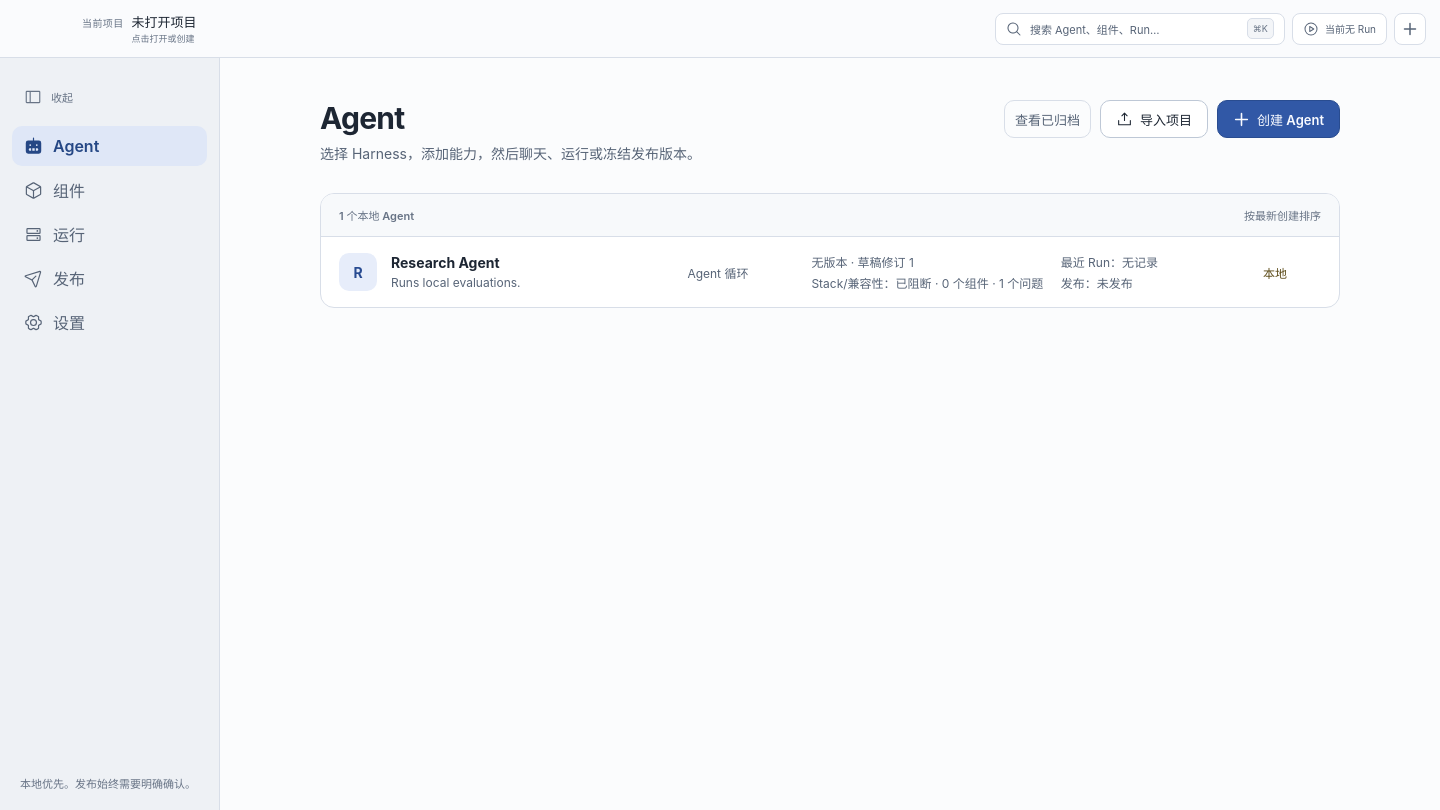
Test: App › opens global search with Command-K and navigates to a local Agent from the keyboard
Type keys "{Meta>}k{/Meta}"
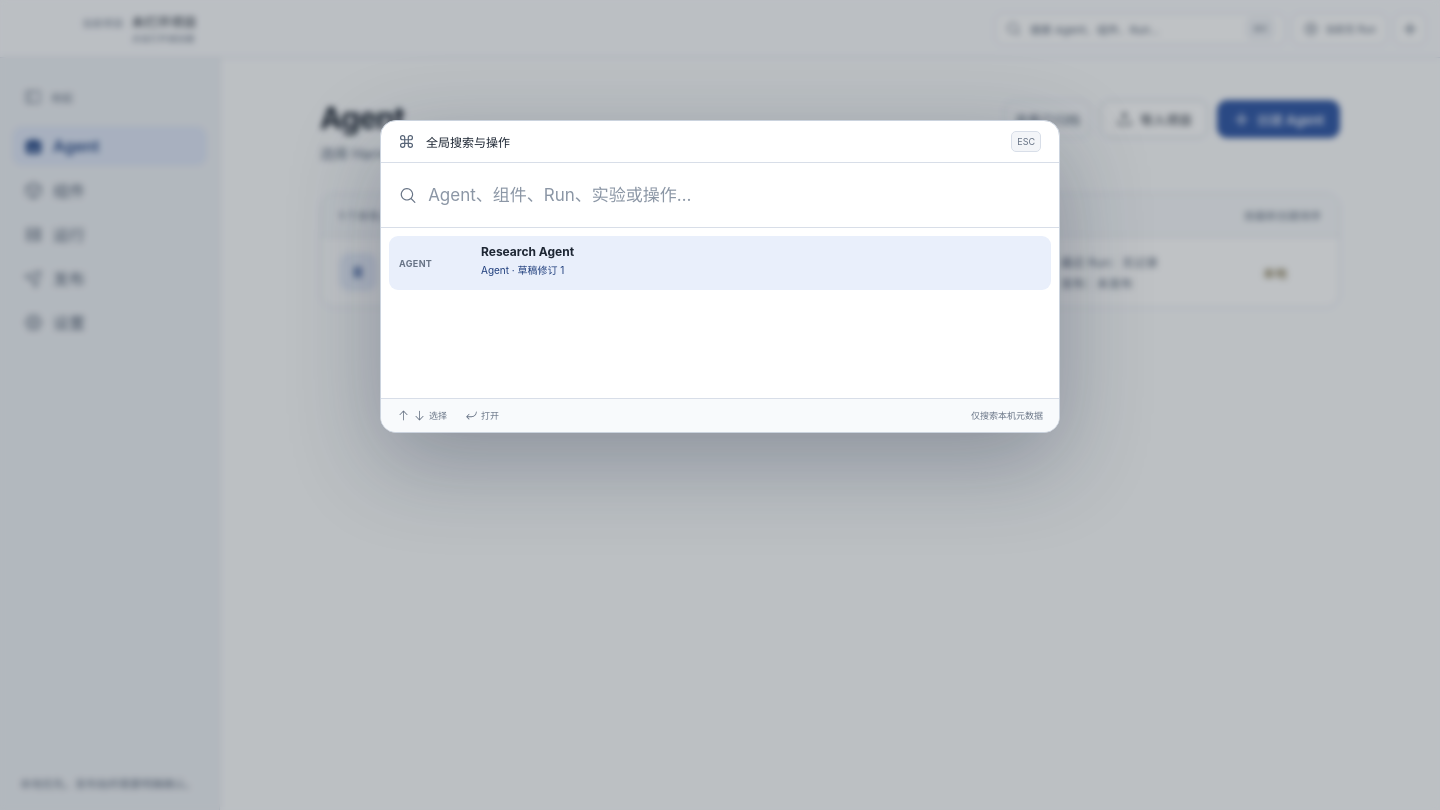
Type "Research" into the dropdown named "搜索本地工作空间" at (735, 195), box [428,178,1041,212]
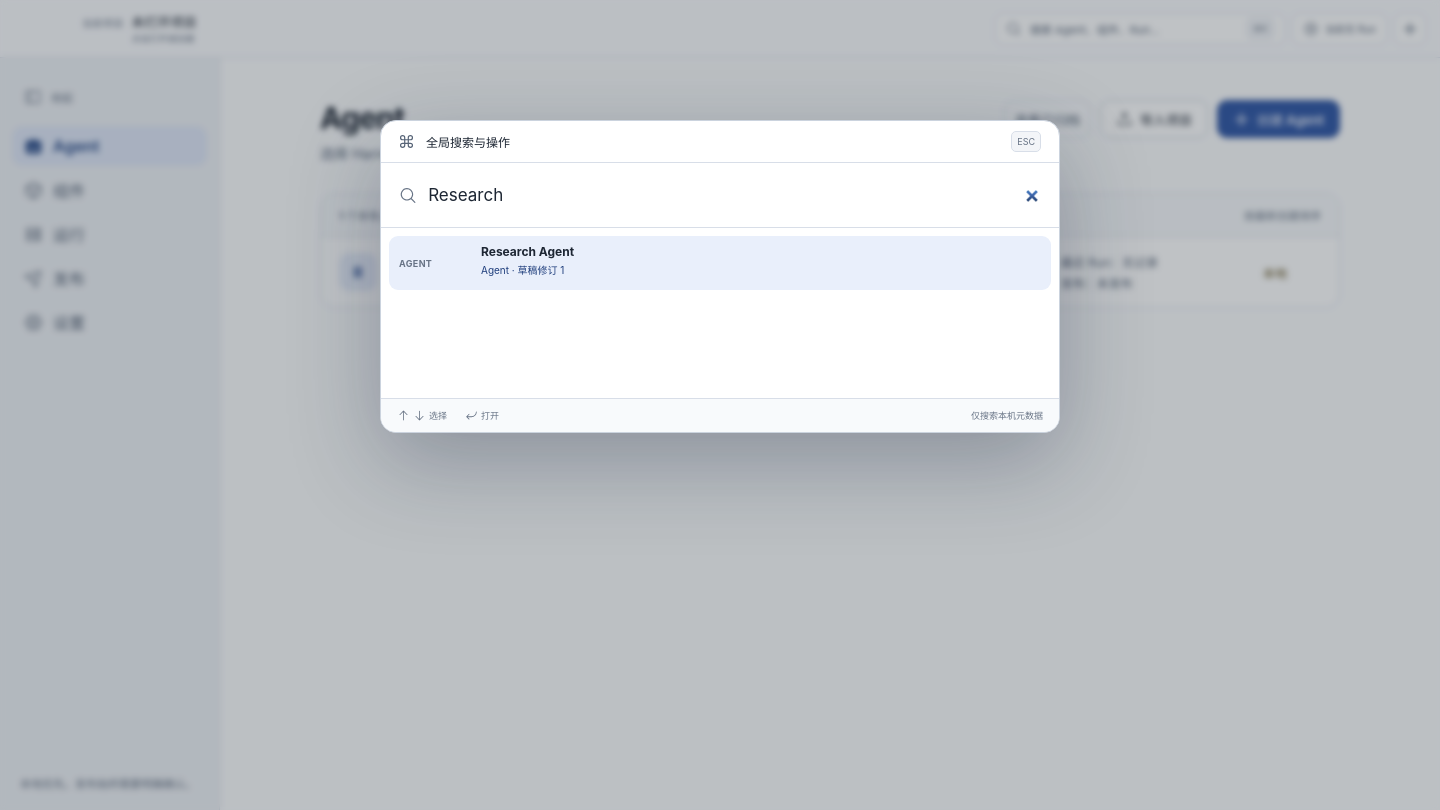
Now the option "Agent Research Agent Agent · 草稿修订 1" is shown, box [389,236,1051,290]
Press Enter
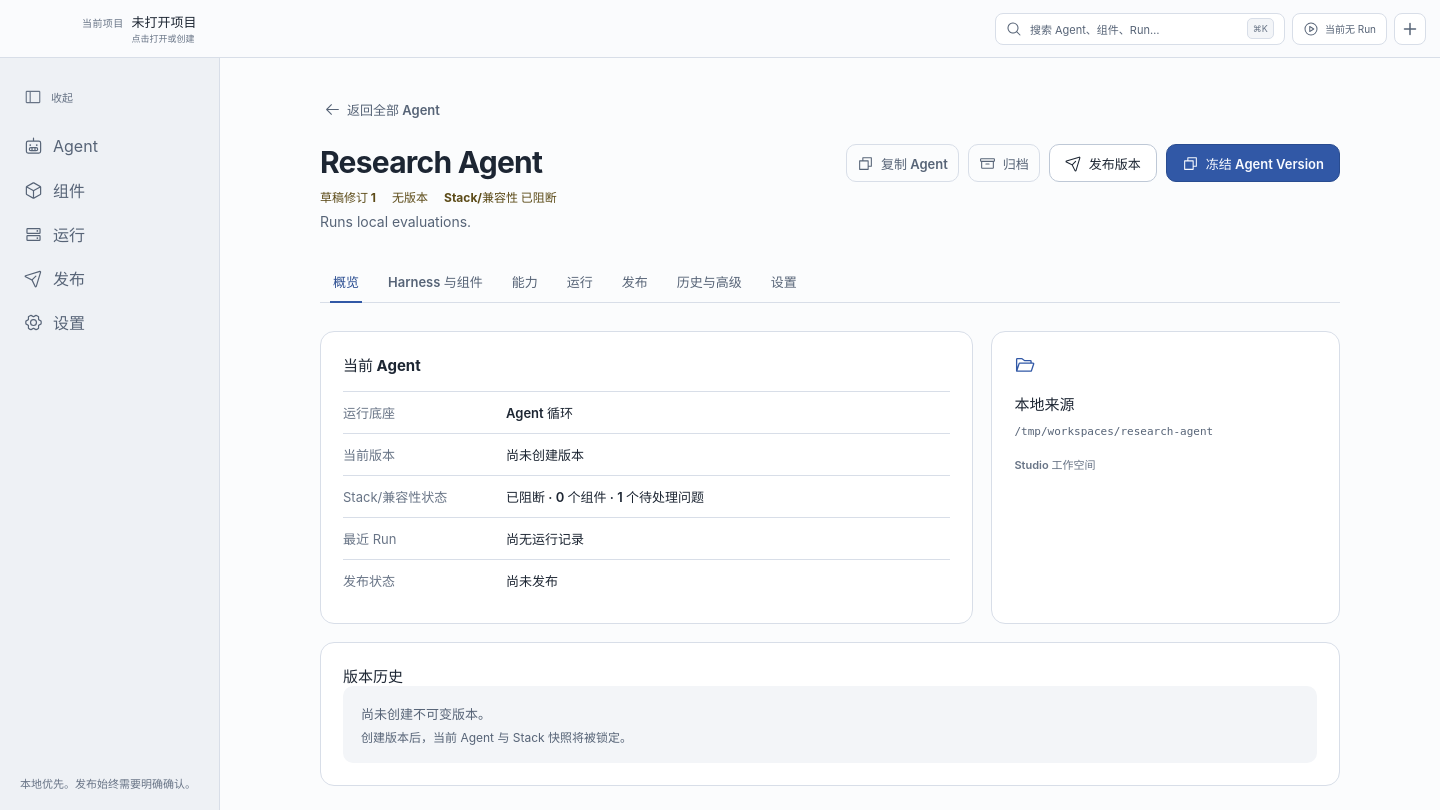
Now the heading "Research Agent" is shown, box [320,144,542,180]
